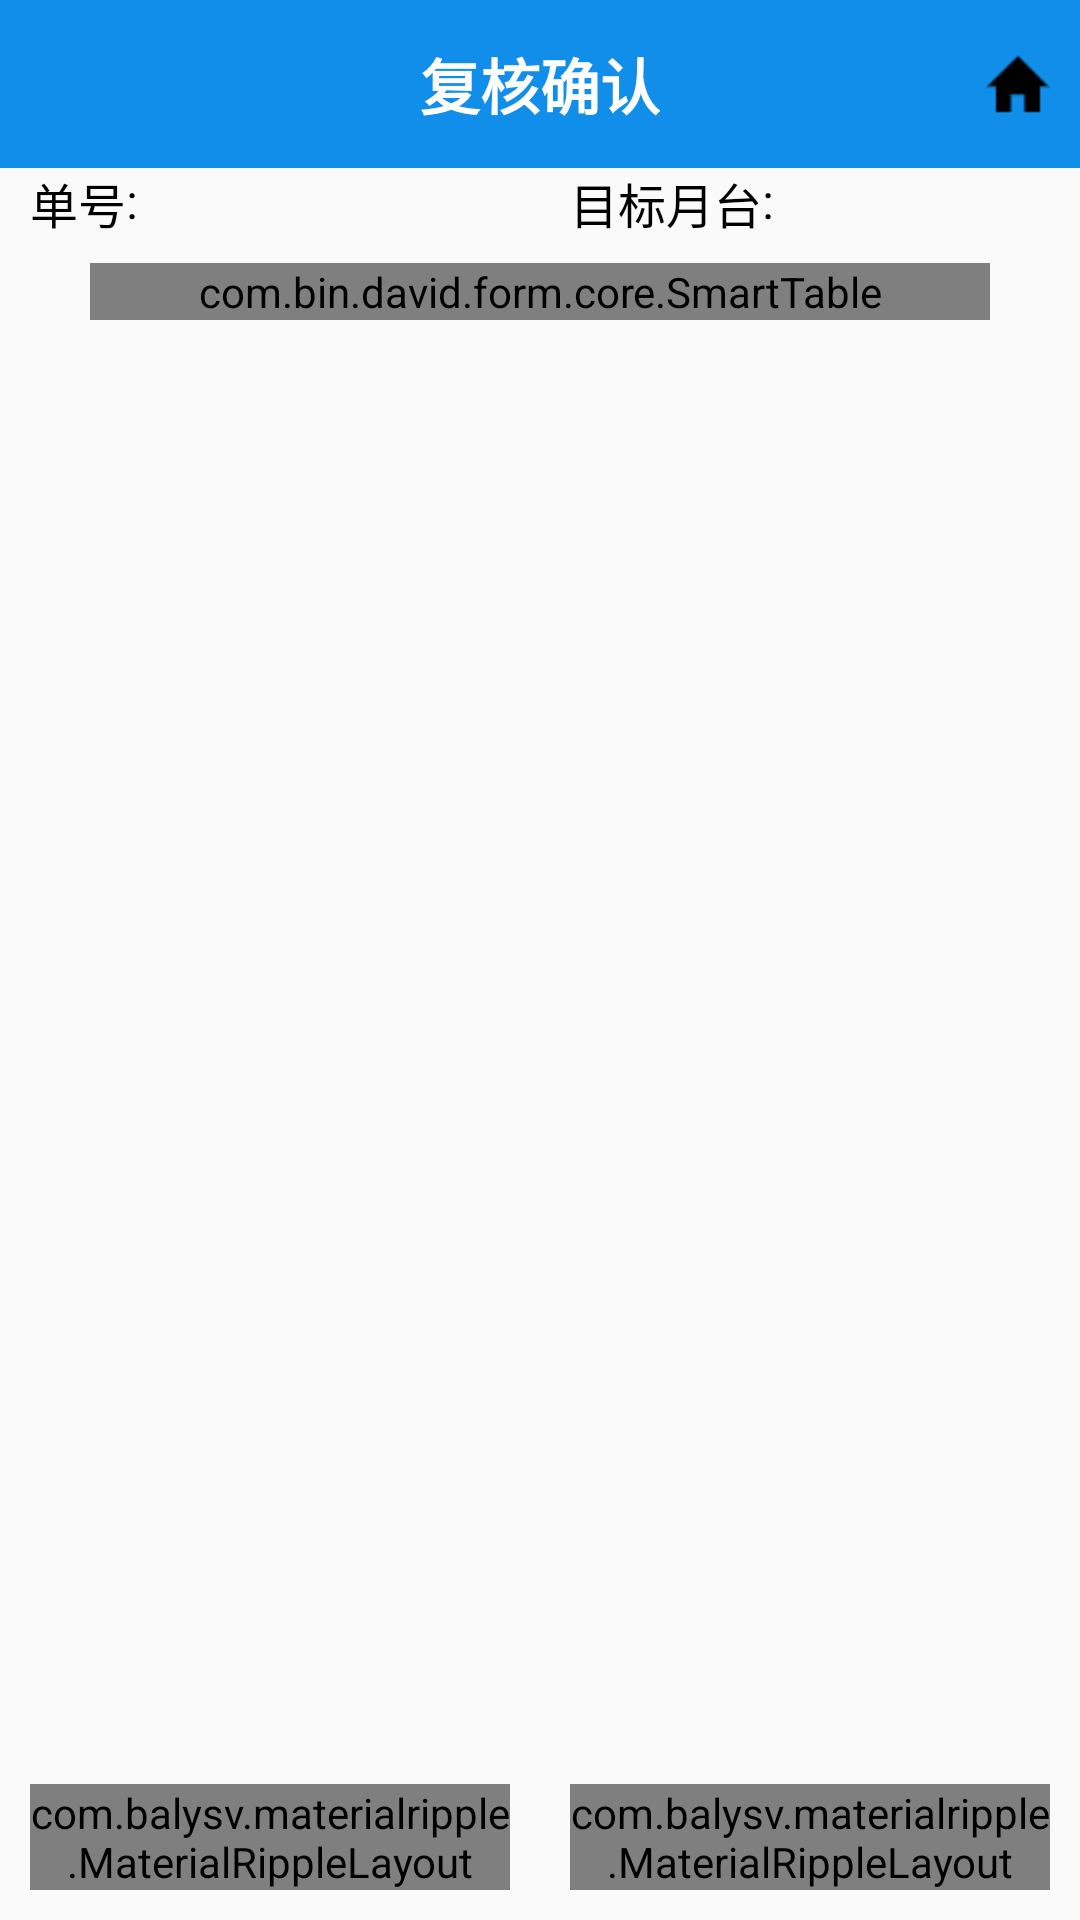

Locate icon controls on the screen. Image size 1080px×1920px, boxes as (x1,y1,x2,y2).
home: (986,55,1050,113)
